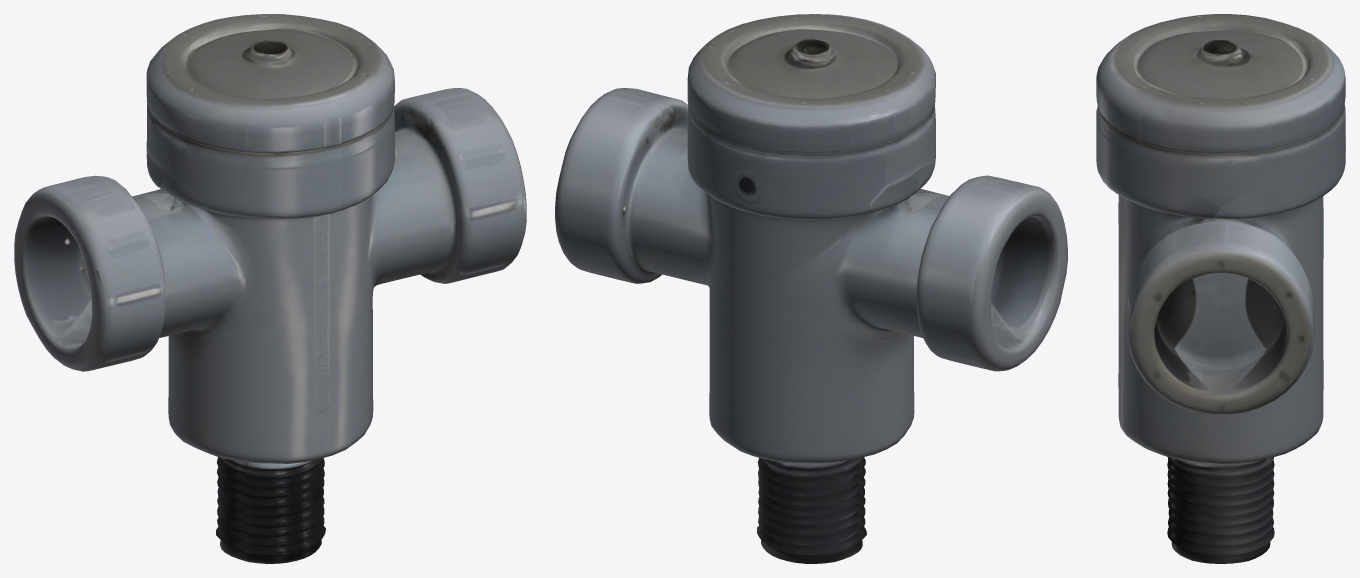
File: Air_extraction_valve_1030090350_refine.fbx
3 renders of one model, left to right at view 1: azimuth 30°, elevation 25°; view 2: azimuth 150°, elevation 25°; view 3: azimuth 270°, elevation 25°, orthographic.
Visible parts, largest first — view 1: Mesh1_Mesh1.004; view 2: Mesh1_Mesh1.004; view 3: Mesh1_Mesh1.004.
Part boxes in pixels (x1,y1,x2,y2): Mesh1_Mesh1.004: (14,14,526,563); Mesh1_Mesh1.004: (555,14,1067,563); Mesh1_Mesh1.004: (1096,14,1345,563).
Bounding box in the file's own units: 180 × 201 × 91.19.
Materials: 1 (1 with a texture image).
